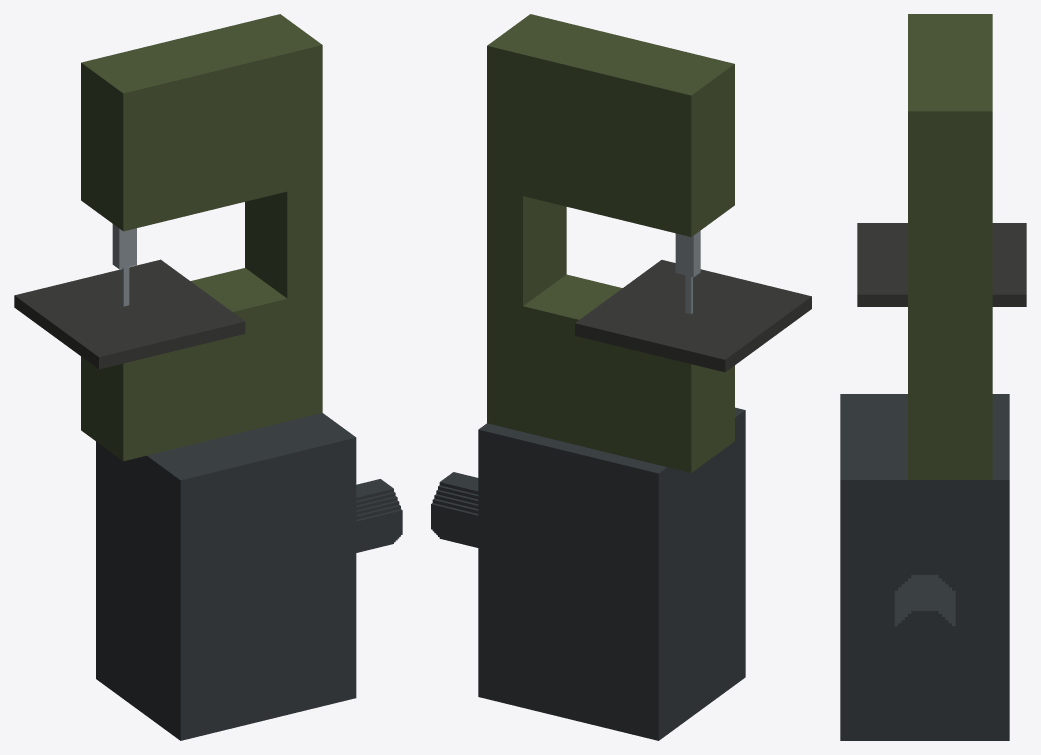
File: bandsaw.glb
3 renders of one model, left to right at view 1: azimuth 30°, elevation 25°; view 2: azimuth 150°, elevation 25°; view 3: azimuth 270°, elevation 25°, orthographic. The views are drawn at different scales.
Parts seen in each view (by area): view 1: bandsaw:compound; view 2: bandsaw:compound; view 3: bandsaw:compound.
Part boxes in pixels (<box>): bandsaw:compound: <box>14,14,402,740</box>; bandsaw:compound: <box>431,14,811,740</box>; bandsaw:compound: <box>840,14,1026,740</box>.
Bounding box in the file's own units: 1.1 × 2.05 × 0.55.
